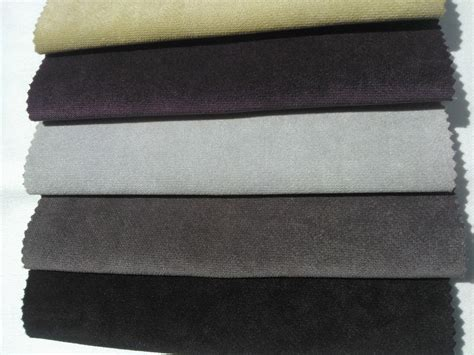gamuza: (21, 1, 469, 355)
